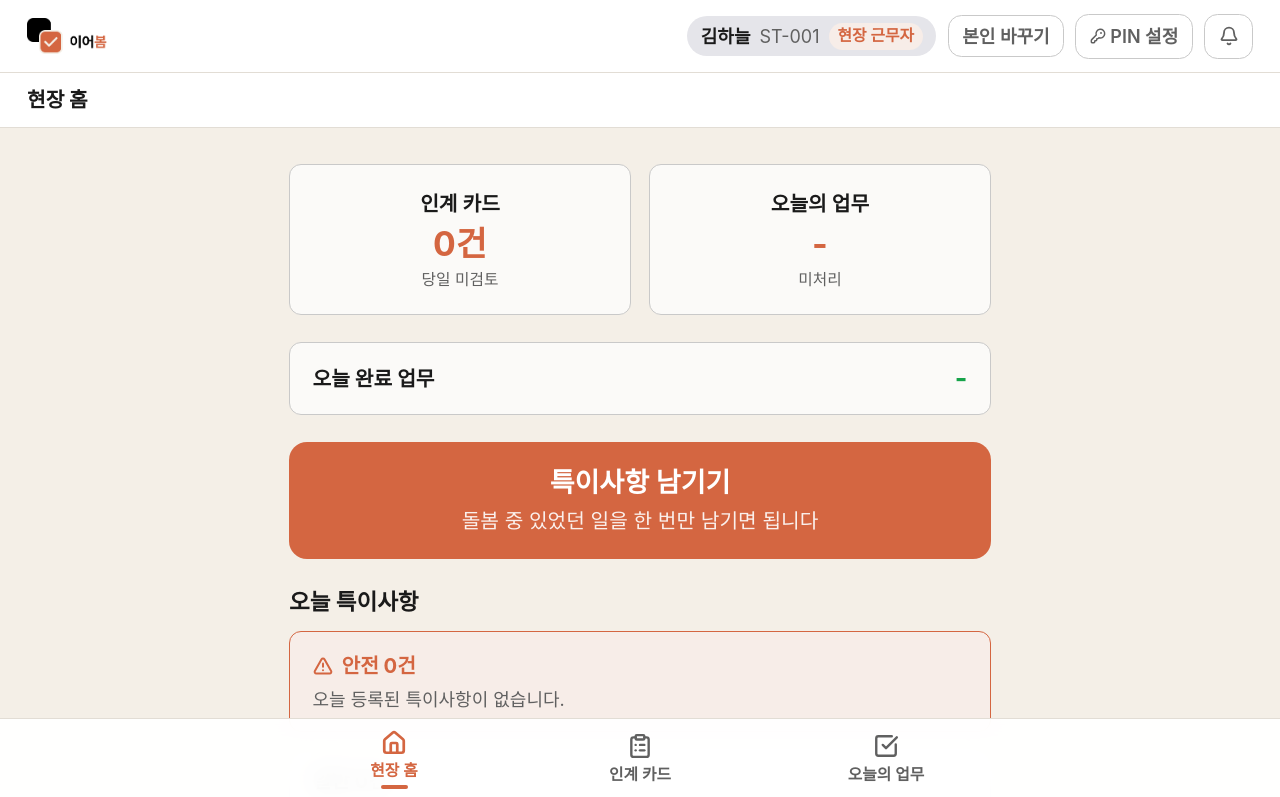
Test case: 현장 홈에서 들어오기 › 특이사항 남기기를 누르면 입력 화면이 열린다
This screenshot has width=1280, height=797.
Step 1. Click the button "특이사항 남기기 돌봄 중 있었던 일을 한 번만 남기면 됩니다" → (640, 501), box [289,442,991,560]
(page scrolled)
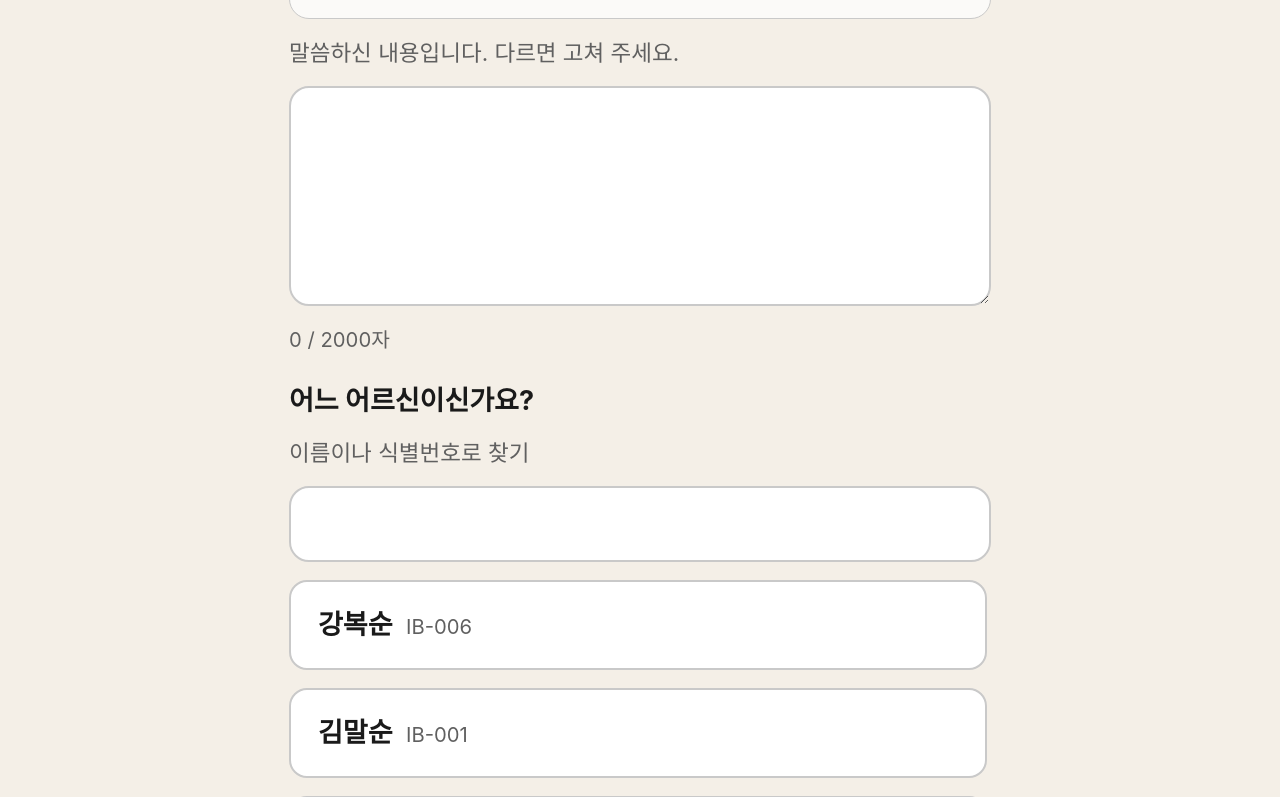
Check: the heading "어느 어르신이신가요?" is shown, box [289,384,534,417]
